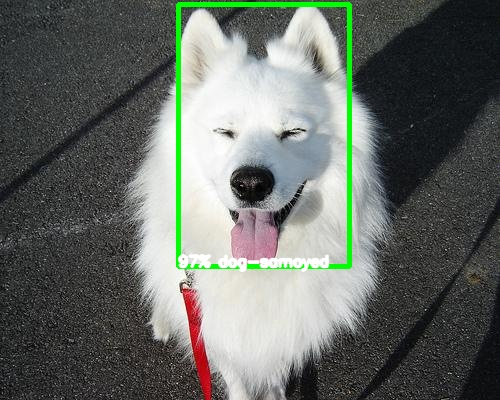dog-samoyed: (175, 3, 341, 267)
